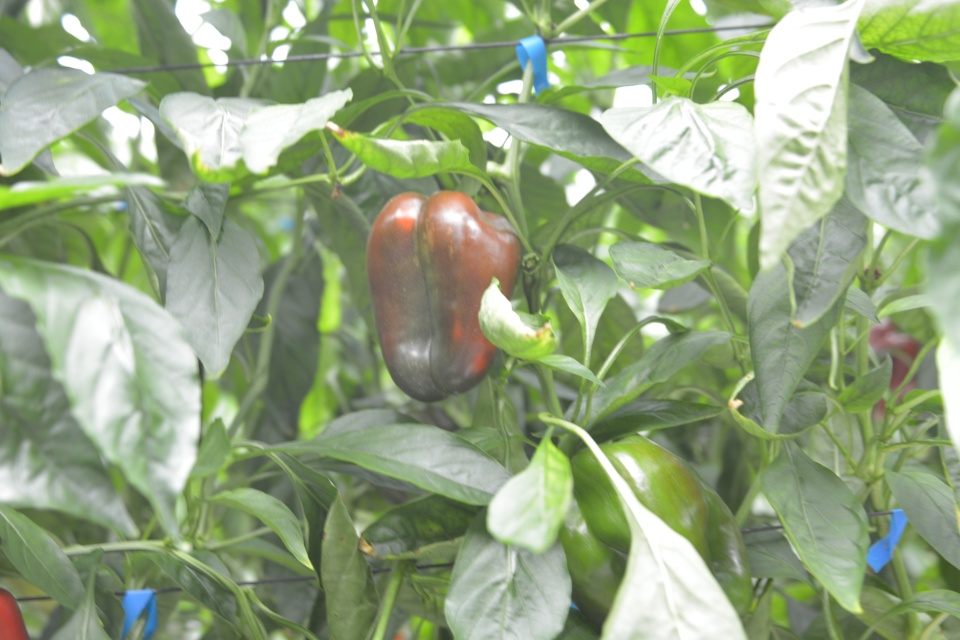fruit: (560, 429, 755, 632), (362, 184, 527, 405), (868, 314, 925, 413)
